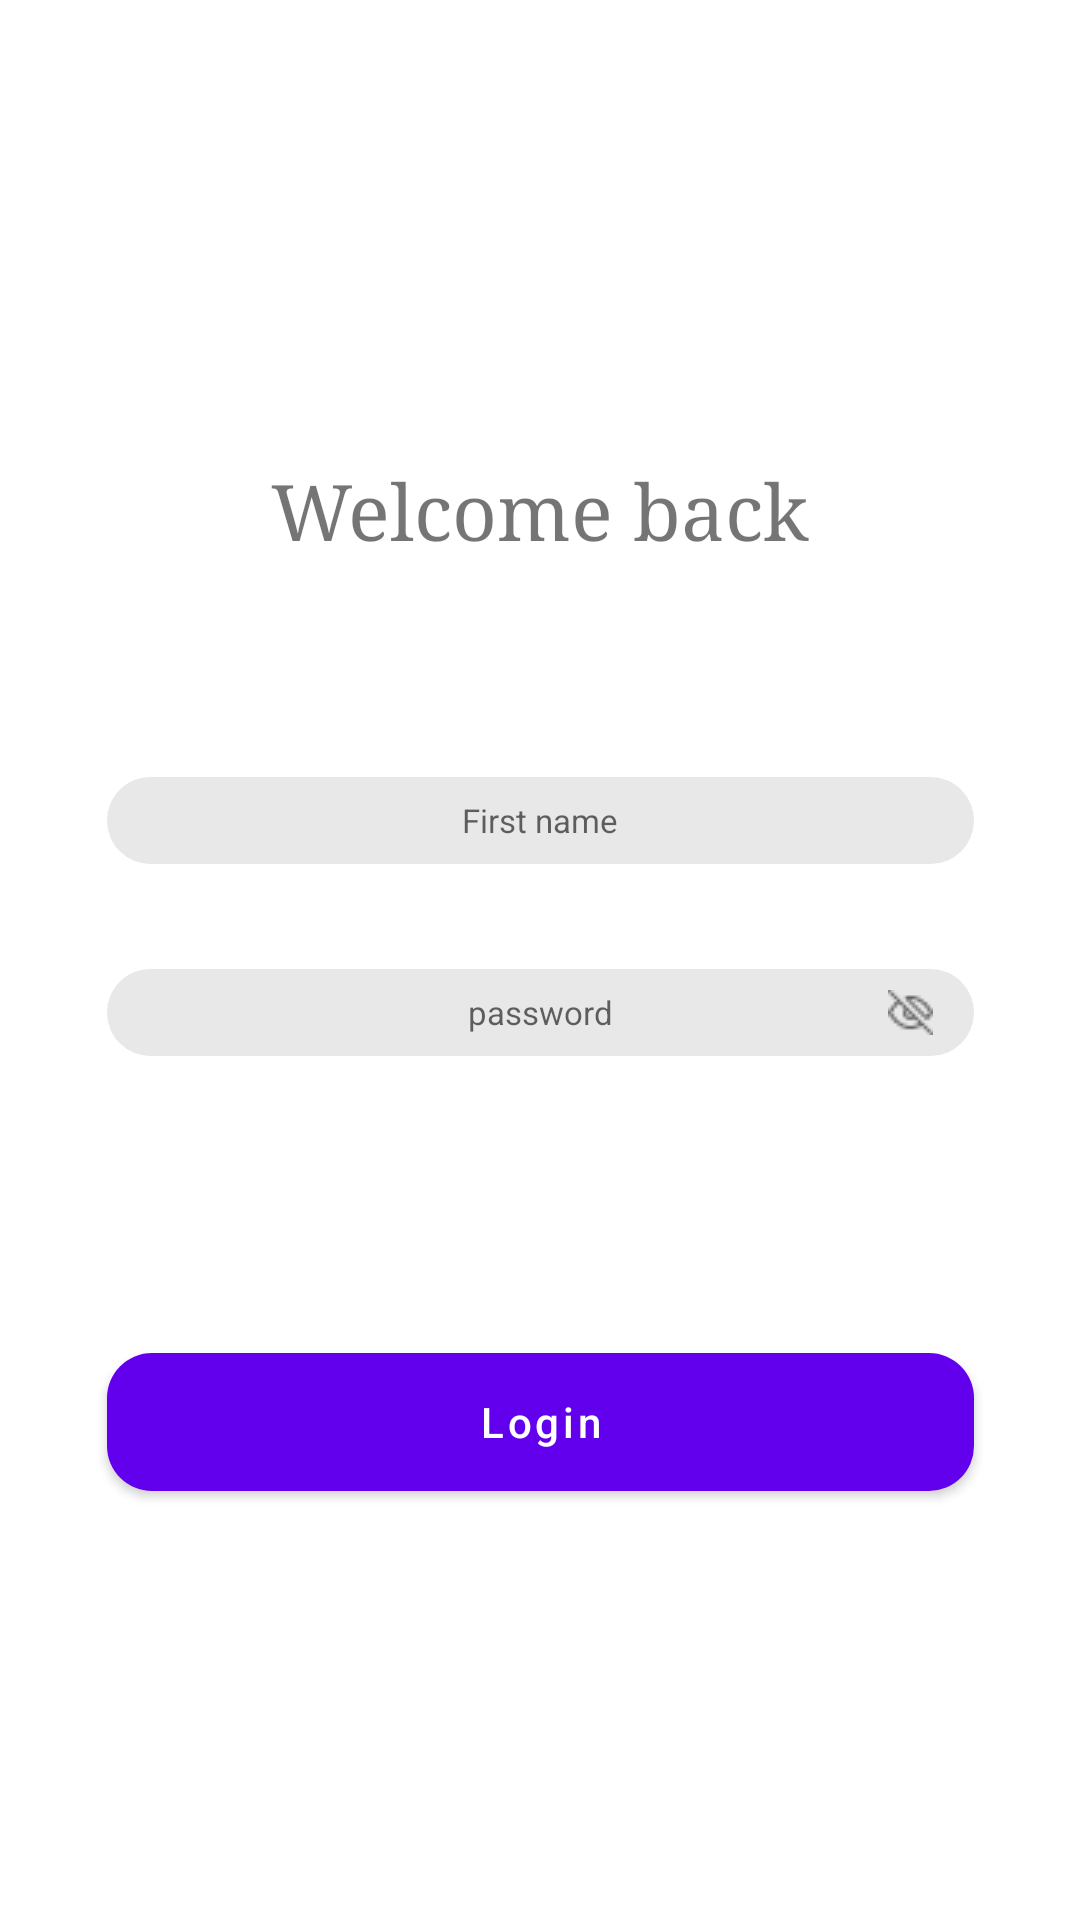

Point at icon controls on the screen. Image size 1080*1920, points as (x=x, y=y).
eye: (x=910, y=1012)
